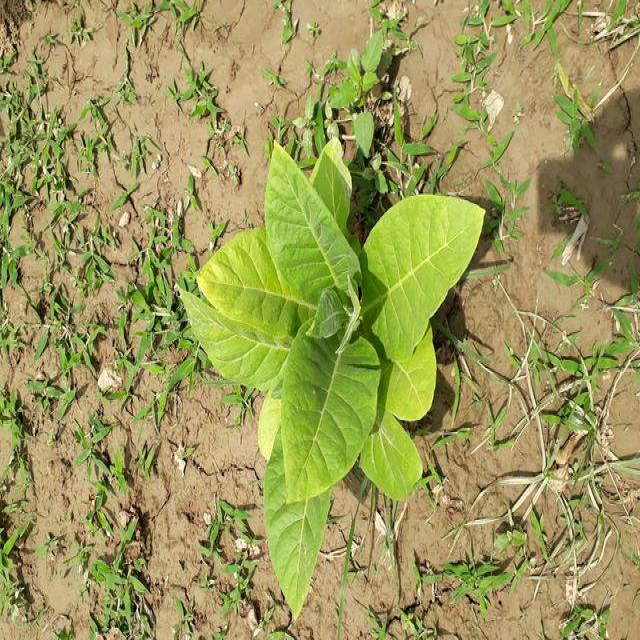crop: (176, 138, 487, 624)
